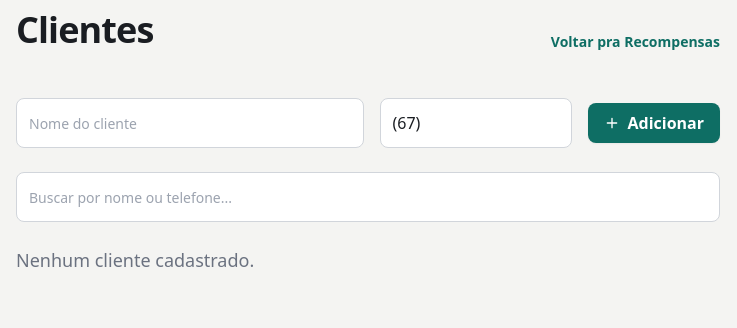
ClientesPage › rejects a phone number that is just the pre-filled DDD
Expected: the text "Nenhum cliente cadastrado." is shown, 16,248 -> 254,272
Type "Ana" into the field with placeholder "Nome do cliente" at (190, 123), box 16,98 -> 364,148
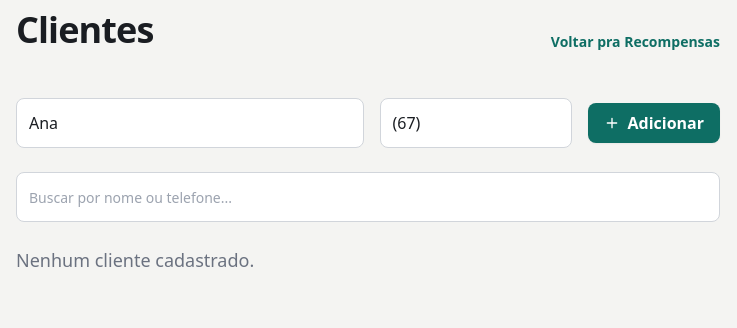
Click the button "Adicionar" at (654, 123), box 588,103 -> 720,143
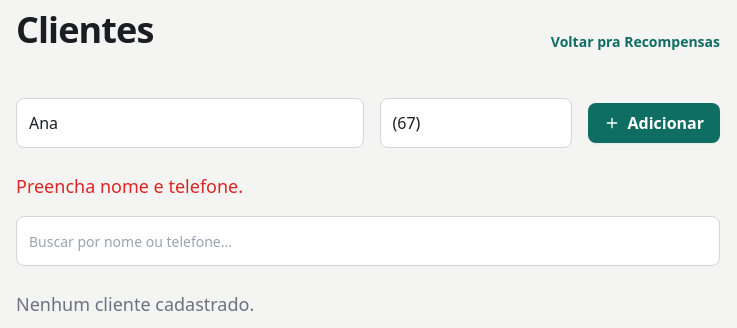
Now the text "Preencha nome e telefone." is shown, box 16,174 -> 243,198
